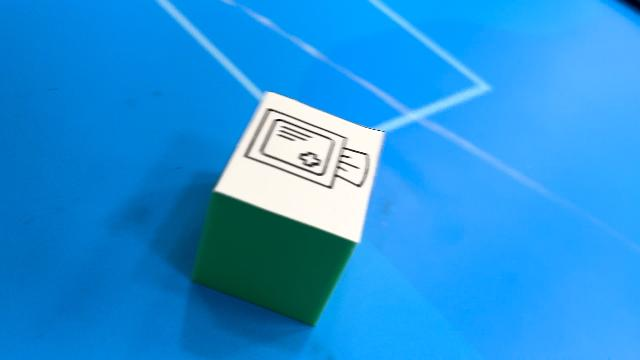napkin: (192, 93, 388, 328)
